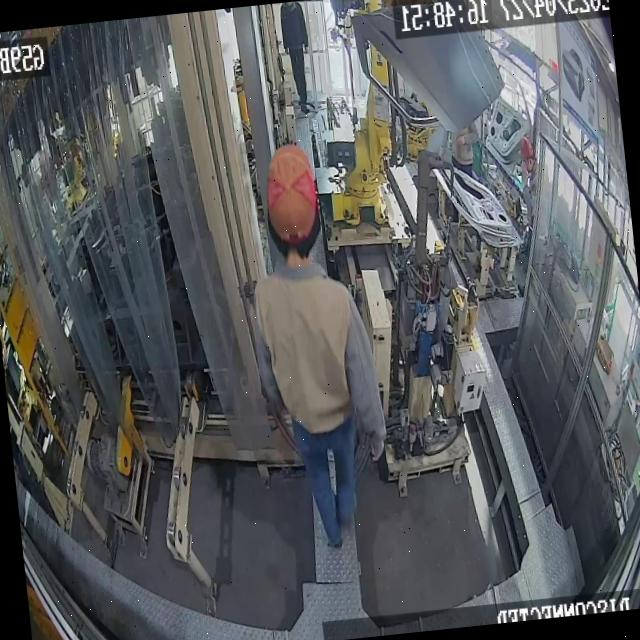Person: (237, 136, 398, 554), (278, 0, 316, 115), (448, 120, 483, 180), (518, 132, 539, 190)
